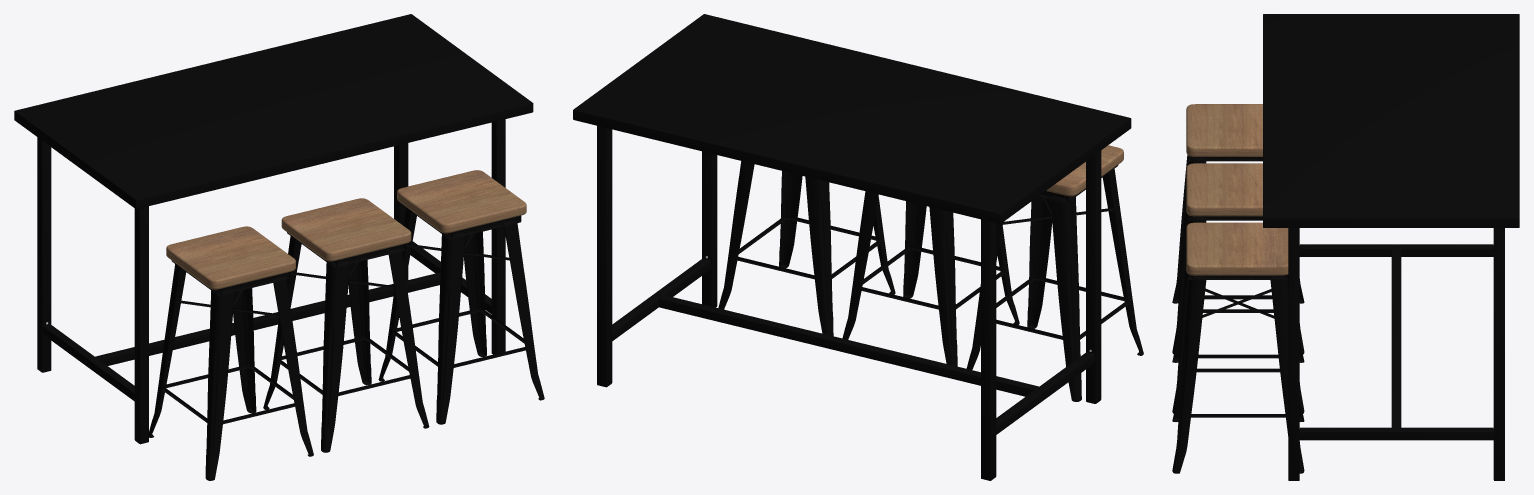
File: cgaxis_models_87_26_fbx.fbx
3 renders of one model, left to right at view 1: azimuth 30°, elevation 25°; view 2: azimuth 150°, elevation 25°; view 3: azimuth 270°, elevation 25°, orthographic. The views are drawn at different scales.
Visible parts, largest first — view 1: cgaxis_models_87_26_02_1, cgaxis_models_87_26_02_2, cgaxis_models_87_26_02_4, cgaxis_models_87_26_02_3, cgaxis_models_87_26_01_2, cgaxis_models_87_26_01_1, cgaxis_models_87_26_01_3; view 2: cgaxis_models_87_26_02_1, cgaxis_models_87_26_02_2, cgaxis_models_87_26_02_4, cgaxis_models_87_26_02_3, cgaxis_models_87_26_01_1; view 3: cgaxis_models_87_26_02_1, cgaxis_models_87_26_02_4, cgaxis_models_87_26_01_3, cgaxis_models_87_26_01_2, cgaxis_models_87_26_01_1, cgaxis_models_87_26_02_3, cgaxis_models_87_26_02_2.
Part boxes in pixels (x1,y1,x2,y2): cgaxis_models_87_26_02_1: (14, 14, 533, 444); cgaxis_models_87_26_02_2: (149, 260, 313, 480); cgaxis_models_87_26_02_4: (378, 204, 544, 424); cgaxis_models_87_26_02_3: (263, 232, 429, 452); cgaxis_models_87_26_01_2: (281, 198, 411, 261); cgaxis_models_87_26_01_1: (166, 226, 295, 289); cgaxis_models_87_26_01_3: (397, 170, 526, 233); cgaxis_models_87_26_02_1: (573, 14, 1131, 480); cgaxis_models_87_26_02_2: (966, 165, 1143, 401); cgaxis_models_87_26_02_4: (718, 161, 895, 336); cgaxis_models_87_26_02_3: (842, 191, 1019, 366); cgaxis_models_87_26_01_1: (1046, 145, 1123, 196); cgaxis_models_87_26_02_1: (1263, 14, 1519, 480); cgaxis_models_87_26_02_4: (1172, 273, 1304, 473); cgaxis_models_87_26_01_3: (1186, 222, 1288, 275); cgaxis_models_87_26_01_2: (1186, 163, 1262, 216); cgaxis_models_87_26_01_1: (1186, 104, 1262, 156); cgaxis_models_87_26_02_3: (1172, 214, 1304, 413); cgaxis_models_87_26_02_2: (1172, 155, 1304, 354).
Size of the model in its own units: 67.17 by 41.66 by 48.26.
Materials: 2 (1 with a texture image).
